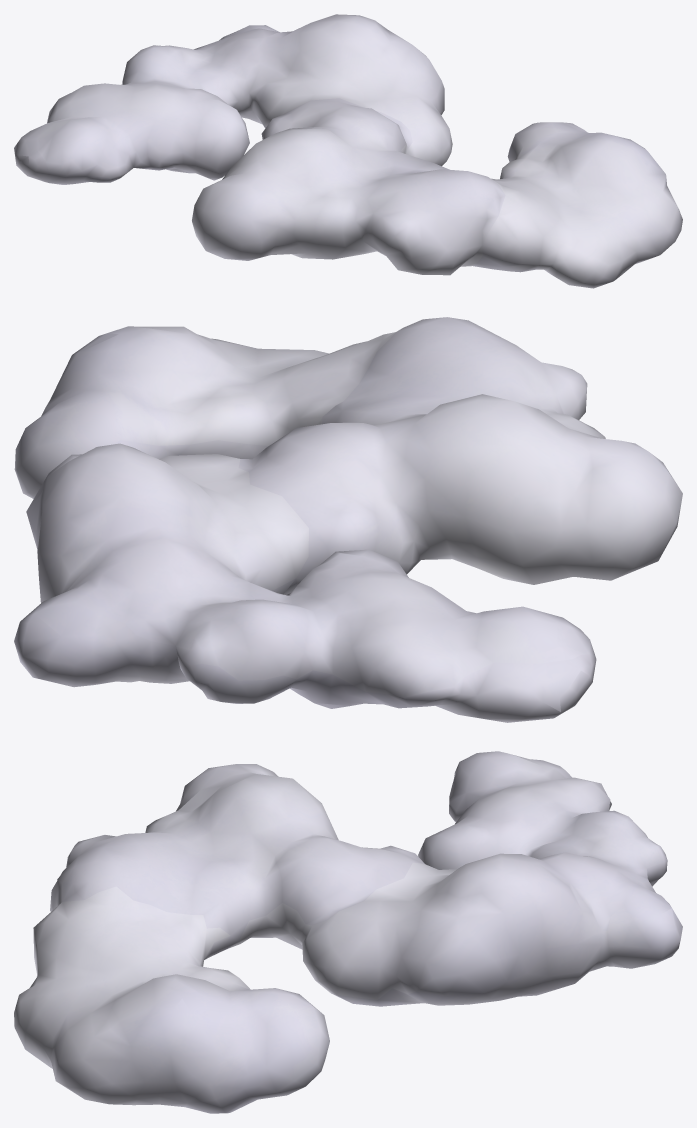
The model's file is OP_KD_Cloud_10a.FBX.
3 renders of one model, top to bottom at view 1: azimuth 30°, elevation 25°; view 2: azimuth 150°, elevation 25°; view 3: azimuth 270°, elevation 25°, orthographic. The views are drawn at different scales.
Visible parts, largest first — view 1: OP_KD_Cloud_10a; view 2: OP_KD_Cloud_10a; view 3: OP_KD_Cloud_10a.
Part boxes in pixels (x1,y1,x2,y2): OP_KD_Cloud_10a: (14,14,682,288); OP_KD_Cloud_10a: (14,317,682,722); OP_KD_Cloud_10a: (14,751,682,1113).
Bounding box in the file's own units: 15729 × 4611 × 15980.
